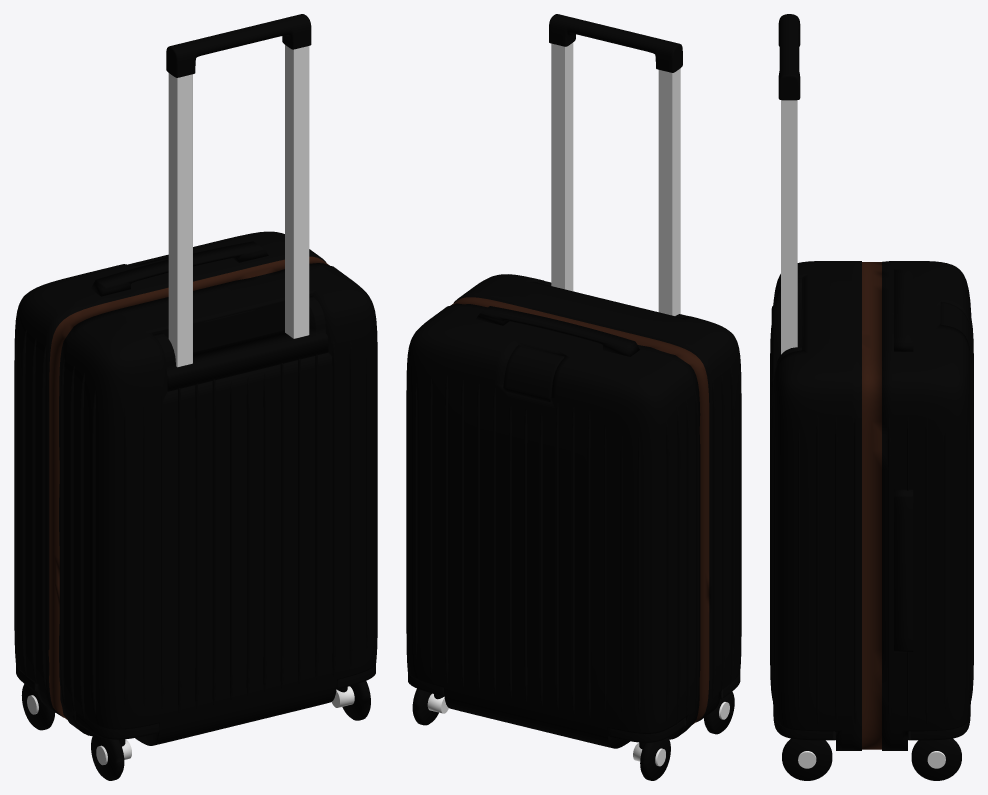
The model's file is rimowa.fbx.
The picture shows the model from 3 angles, left to right: view 1: azimuth 30°, elevation 25°; view 2: azimuth 150°, elevation 25°; view 3: azimuth 270°, elevation 25°; orthographic projection. The views are drawn at different scales.
Parts seen in each view (by area): view 1: Cube, Cube.022, Cube.023, Cube.032, Cube.006, Cube.030, Cube.025, Cube.028, Cube.029, Cube.027, Cube.026, Cube.012 (+20 smaller); view 2: Cube, Cube.022, Cube.032, Cube.007, Cube.006, Cube.027, Cube.030, Cube.029, Cube.018, Cube.025, Cube.017, Cube.016 (+20 smaller); view 3: Cube, Cube.022, Cube.033, Cube.032, Cube.006, Cylinder.008, Cylinder.009, Cube.012, Cube.023, Cube.013, Cube.014, Cube.025 (+10 smaller).
Boxes of the visible parts, x1,y1,x2,y2 form: Cube: (14,231,377,745); Cube.022: (168,45,309,367); Cube.023: (153,296,328,391); Cube.032: (166,14,311,77); Cube.006: (91,241,268,296); Cube.030: (22,330,26,676); Cube.025: (80,372,84,718); Cube.028: (42,345,46,691); Cube.029: (32,338,36,683); Cube.027: (60,358,64,704); Cube.026: (70,366,74,711); Cube.012: (332,341,335,676); Cube: (406,274,741,748); Cube.022: (551,42,680,315); Cube.032: (549,14,682,72); Cube.007: (503,345,564,401); Cube.006: (476,306,639,356); Cube.027: (711,379,715,698); Cube.030: (676,404,680,724); Cube.029: (685,398,689,717); Cube.018: (587,410,590,718); Cube.025: (730,365,734,684); Cube.017: (571,406,574,714); Cube.016: (555,403,558,710); Cube: (772,261,971,750); Cube.022: (781,100,797,354); Cube.033: (894,489,913,652); Cube.032: (778,14,800,100); Cube.006: (894,269,913,351); Cylinder.008: (782,738,832,780); Cylinder.009: (911,738,961,780); Cube.012: (770,388,973,699); Cube.023: (771,278,801,393); Cube.013: (771,402,972,702); Cube.014: (774,420,969,700); Cube.025: (816,416,818,724).
Size of the model in its own units: 0.3887 by 0.9103 by 0.2479.
